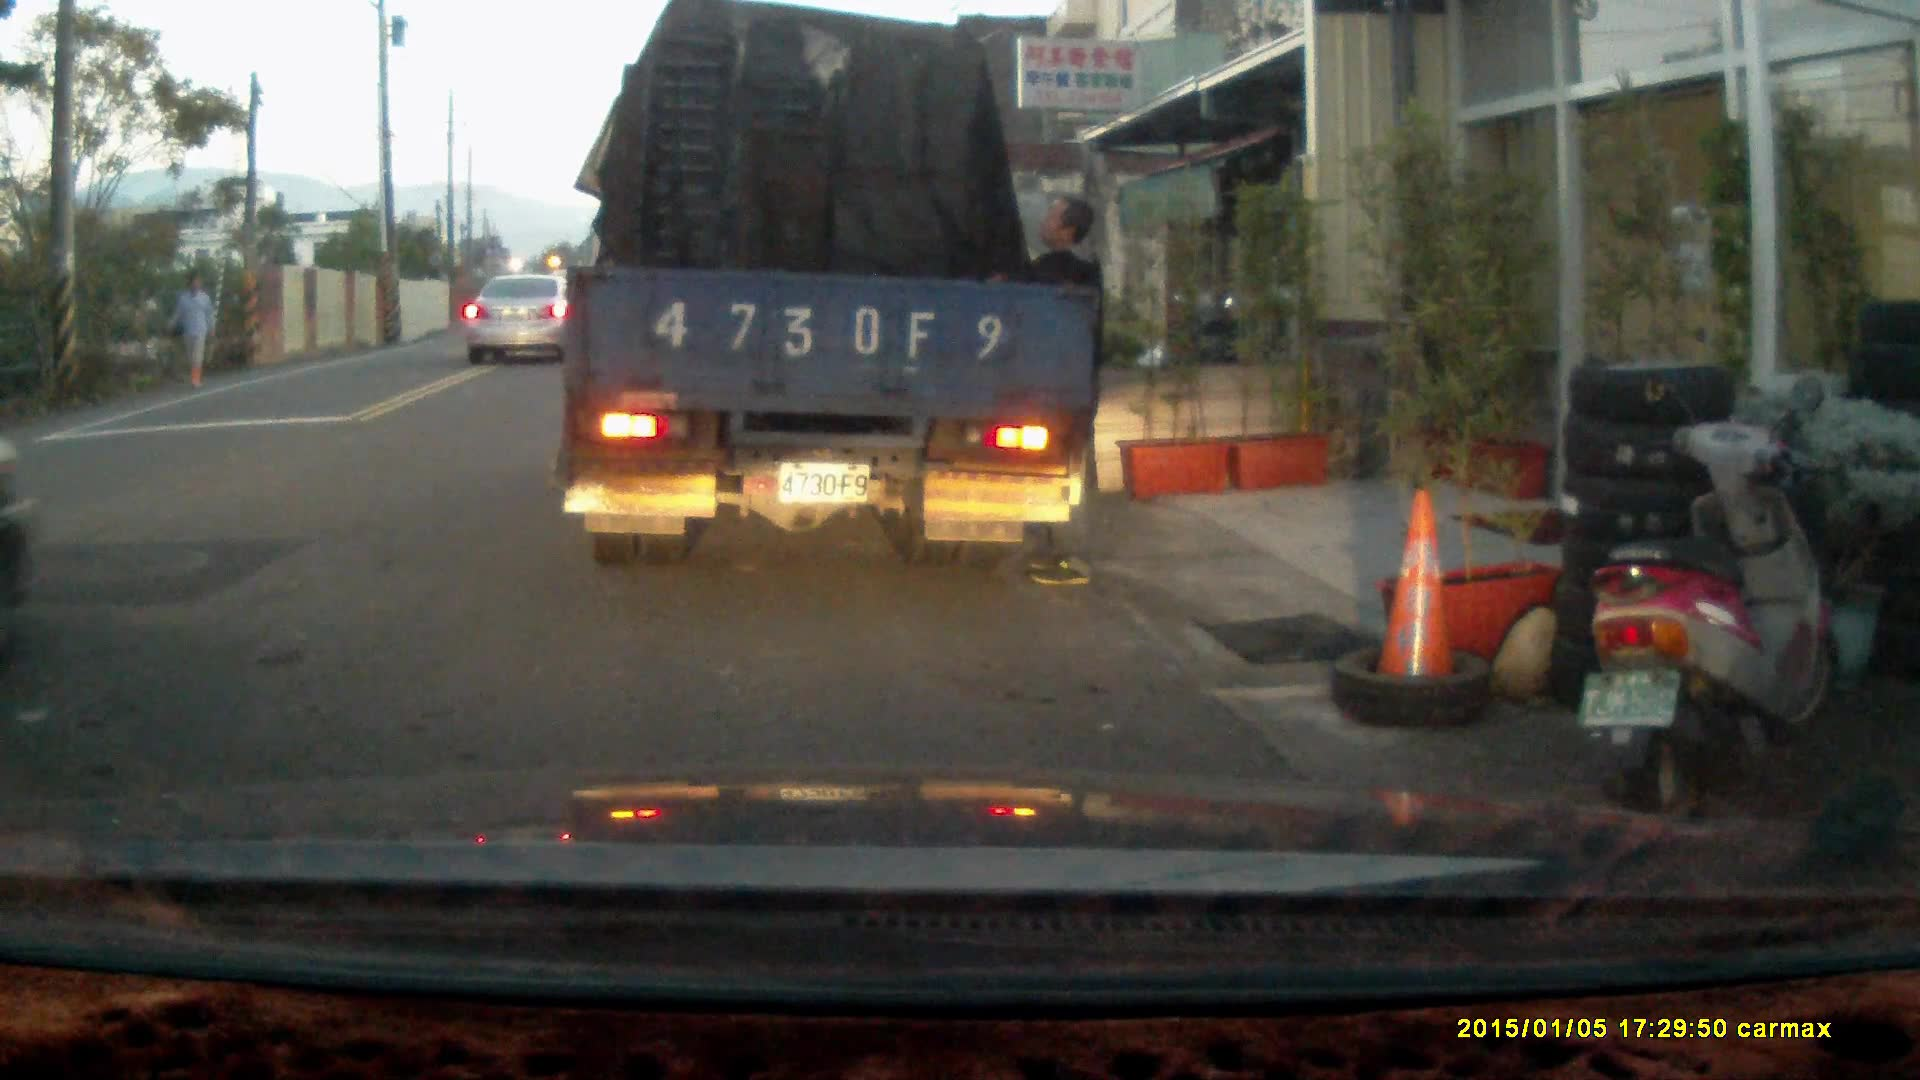pedestrian: (983, 194, 1104, 587), (170, 270, 217, 388)
vehicle: (565, 23, 1097, 572), (464, 268, 591, 365)
